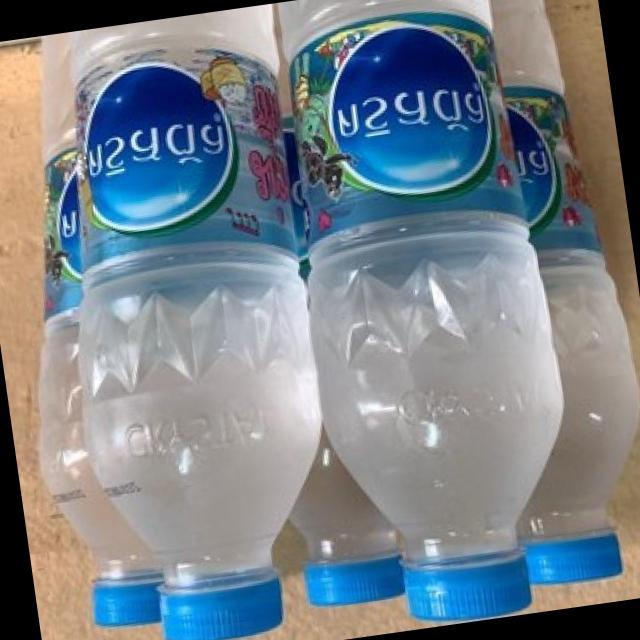plastic_bottle: (27, 4, 358, 640), (262, 0, 591, 638), (441, 0, 640, 592), (0, 29, 171, 636), (274, 416, 410, 612)
